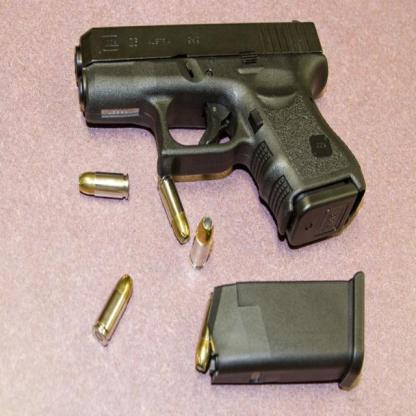weapon: (73, 18, 367, 252)
